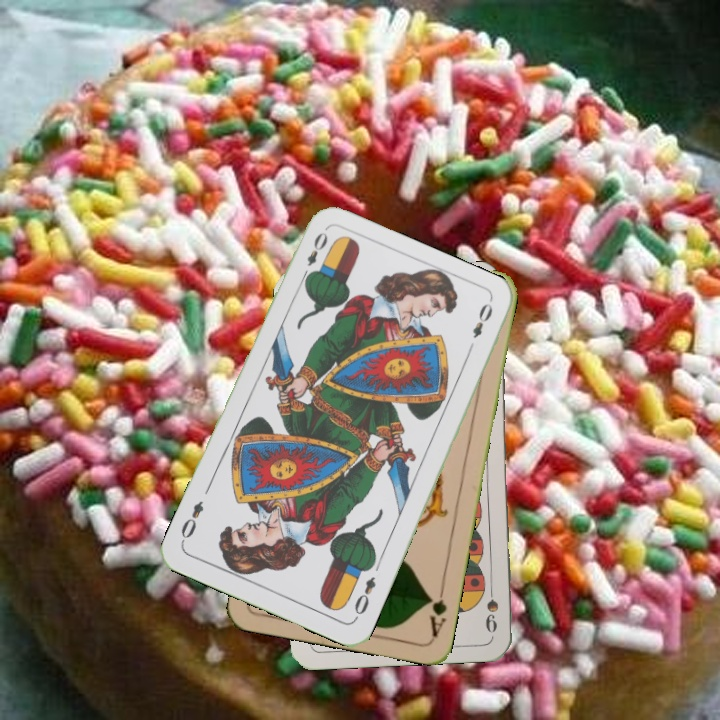EO: (297, 228, 331, 283), (350, 572, 379, 622)
GA: (424, 580, 450, 640)
S9: (482, 576, 501, 635)
